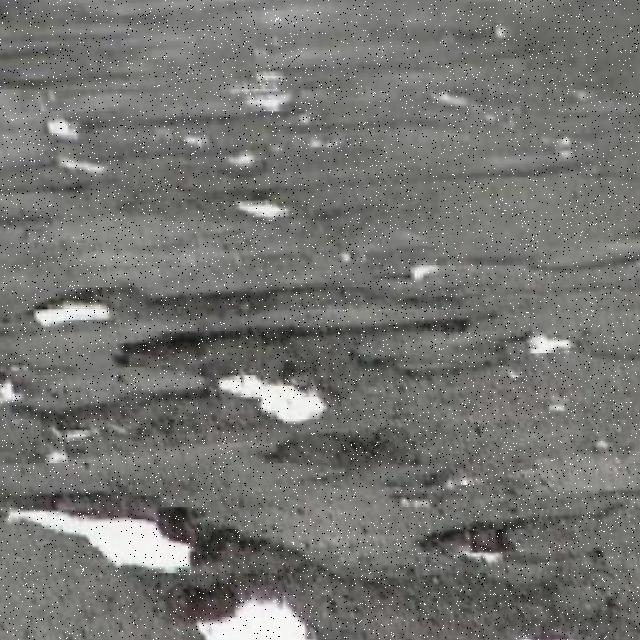pothole: (0, 491, 243, 570), (166, 574, 320, 640), (214, 364, 341, 430), (417, 523, 518, 565), (31, 299, 116, 328)
